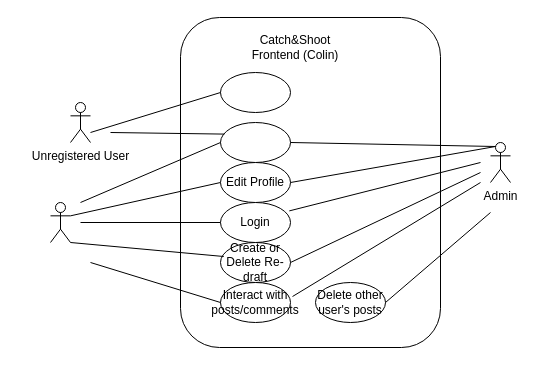
This 535x365 diagram has some shape labels left out. The shapes that lost their labels are listed below. From the top down, each one's box as (x1, y1, x2, y2) in pixels, then its label:
(220, 72, 290, 112): Register
(220, 122, 290, 162): View Drafts or Posts
(50, 202, 70, 242): Registered User
